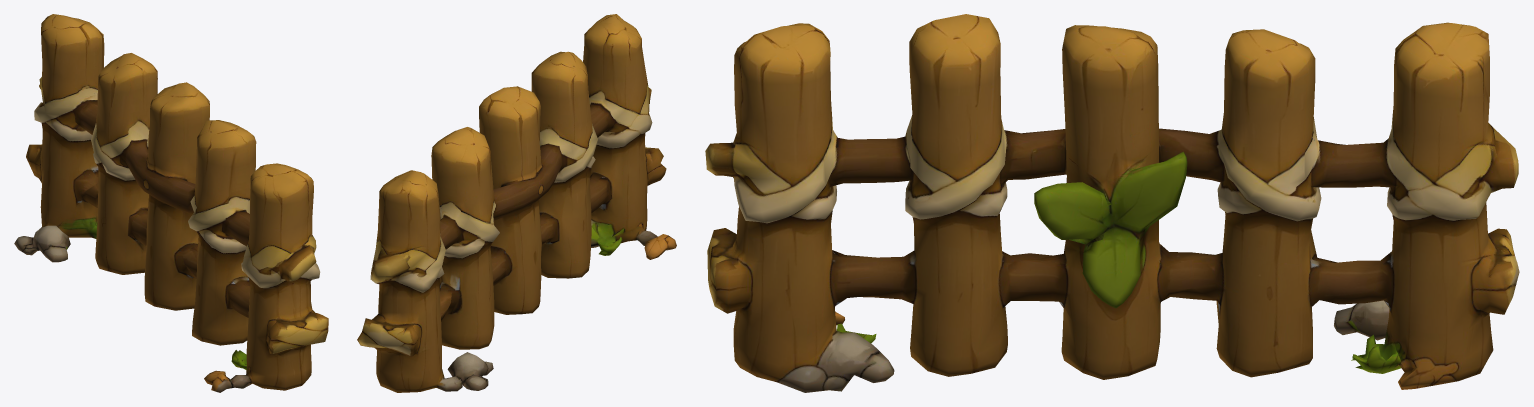
The model's file is nat-fences-lv1-1900.fbx.
3 views of the same model, side by side, from view 1: azimuth 30°, elevation 25°; view 2: azimuth 150°, elevation 25°; view 3: azimuth 270°, elevation 25° (orthographic). The views are drawn at different scales.
Visible parts, largest first — view 1: tripo_node_f60c0787; view 2: tripo_node_f60c0787; view 3: tripo_node_f60c0787.
Part boxes in pixels (bbox=[...]): tripo_node_f60c0787: bbox=[14, 14, 328, 392]; tripo_node_f60c0787: bbox=[357, 14, 676, 392]; tripo_node_f60c0787: bbox=[705, 14, 1519, 392].
Size of the model in its own units: 0.2571 by 0.467 by 0.9788.
